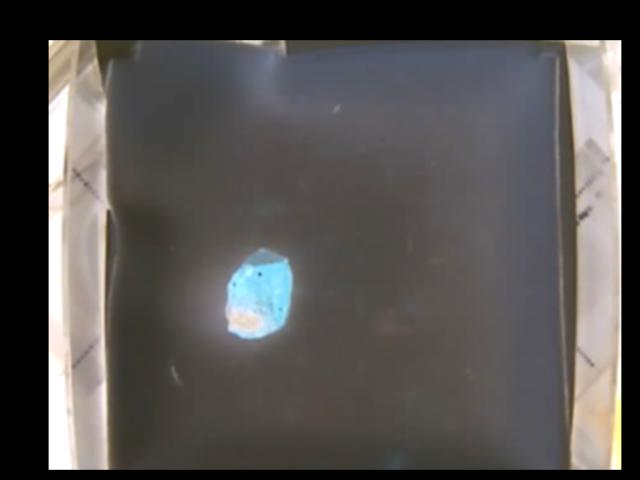Brisk: (224, 246, 291, 338)
